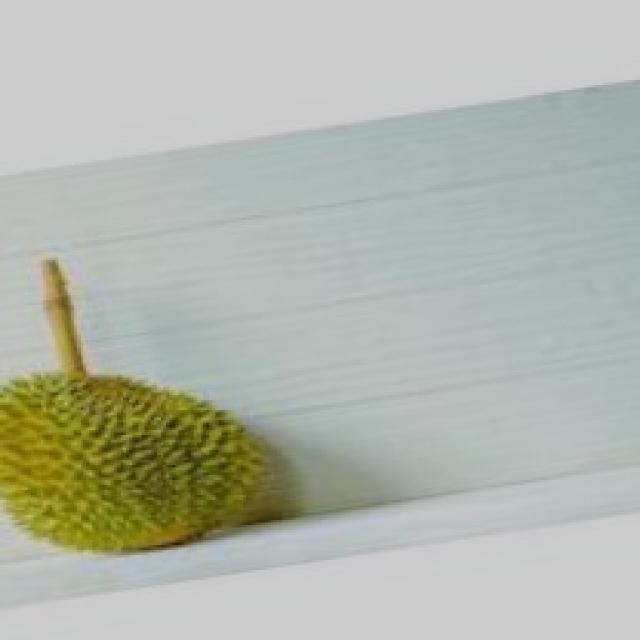fruit: (0, 332, 320, 590)
